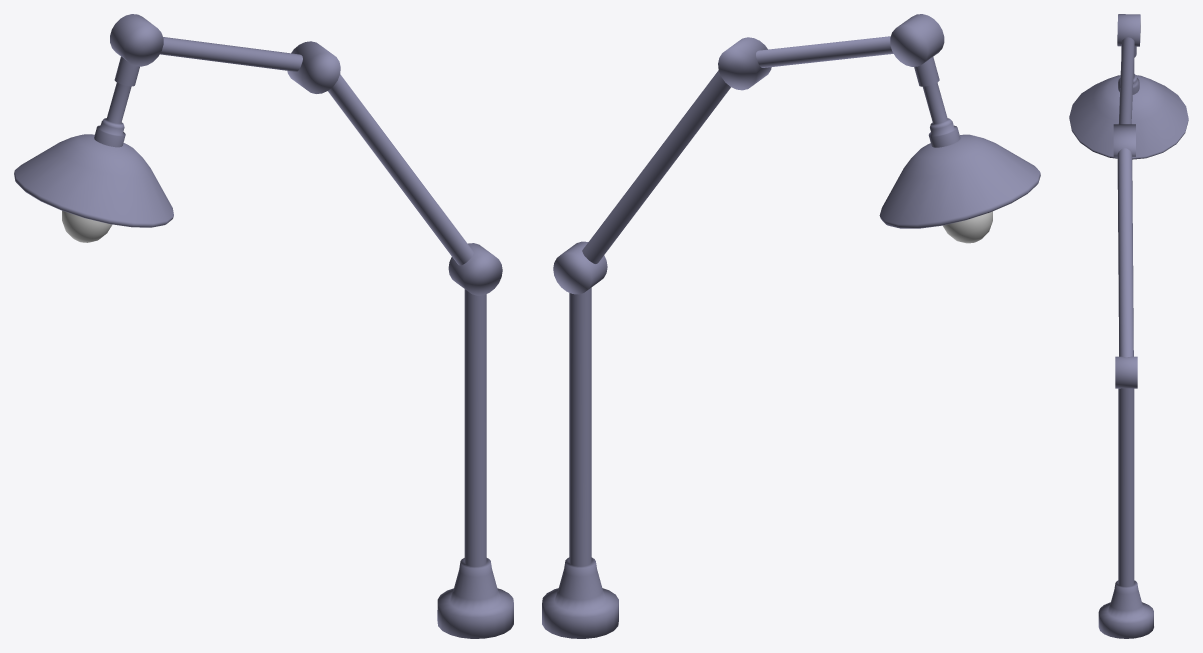
The model's file is SM_Lamp_Atelier.fbx.
The picture shows the model from 3 angles, left to right: view 1: azimuth 30°, elevation 25°; view 2: azimuth 150°, elevation 25°; view 3: azimuth 270°, elevation 25°; orthographic projection. The views are drawn at different scales.
Visible parts, largest first — view 1: SM_Lamp_Atelier; view 2: SM_Lamp_Atelier; view 3: SM_Lamp_Atelier.
Part boxes in pixels (bbox=[...]): SM_Lamp_Atelier: bbox=[14, 14, 513, 638]; SM_Lamp_Atelier: bbox=[542, 14, 1040, 638]; SM_Lamp_Atelier: bbox=[1069, 14, 1188, 638].
Size of the model in its own units: 1801 by 2441 by 536.
